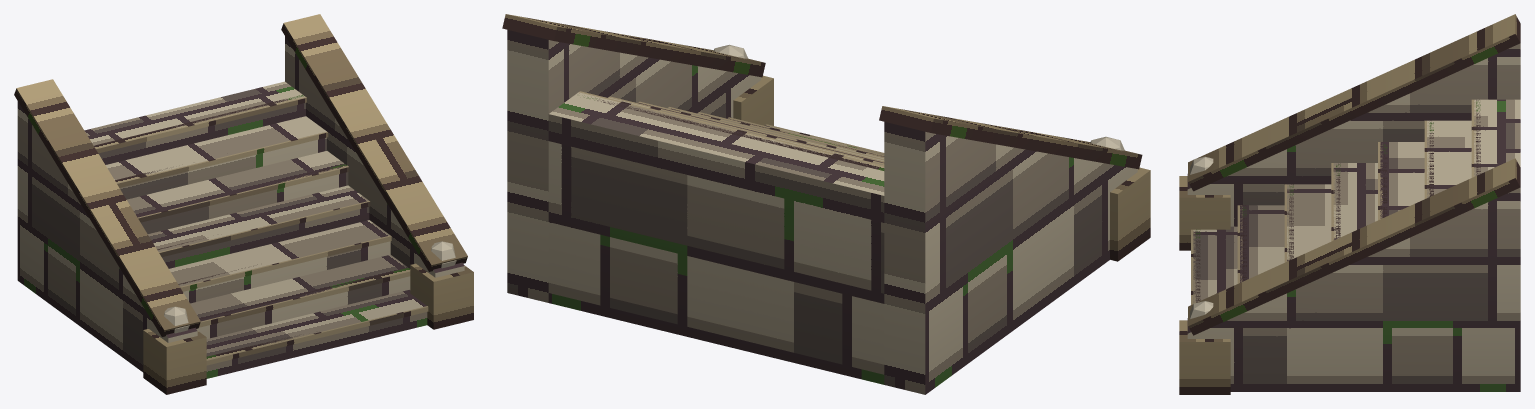
Rendered from scene_stairs_lane.glb.
3 renders of one model, left to right at view 1: azimuth 30°, elevation 25°; view 2: azimuth 150°, elevation 25°; view 3: azimuth 270°, elevation 25°, orthographic. The views are drawn at different scales.
Visible parts, largest first — view 1: scene_stairs_lane; view 2: scene_stairs_lane; view 3: scene_stairs_lane.
Boxes of the visible parts, box(x1,y1,x2,y2) form: scene_stairs_lane: box(14, 14, 473, 394); scene_stairs_lane: box(502, 14, 1150, 394); scene_stairs_lane: box(1179, 14, 1520, 394).
Bounding box in the file's own units: 3.36 × 2.04 × 2.92.
Materials: 2 (1 with a texture image).
